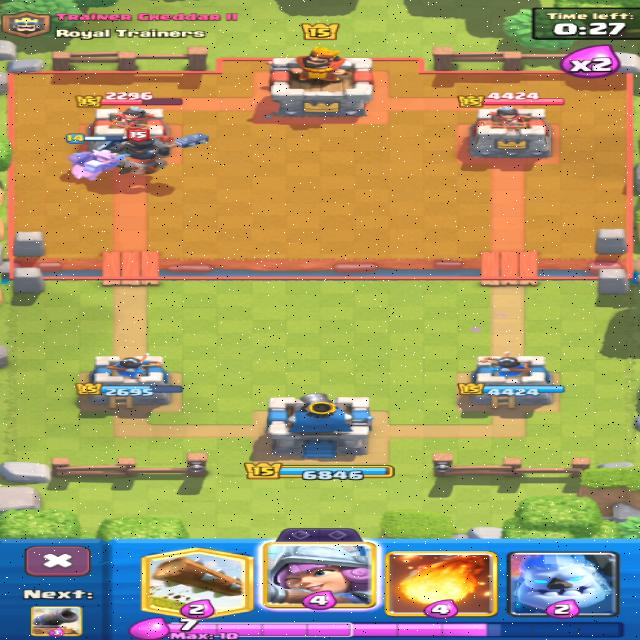Enemy-DarkPrince-Shield: (103, 127, 208, 174)
Enemy-KingTower: (268, 47, 373, 116)
Enemy-PrincessTower: (470, 106, 550, 158), (90, 106, 169, 136)
Player-HogRider: (70, 150, 117, 180)
Player-KingTower-Activated: (267, 394, 373, 459)
Player-PrincessTower: (76, 354, 182, 408), (459, 353, 563, 408)
